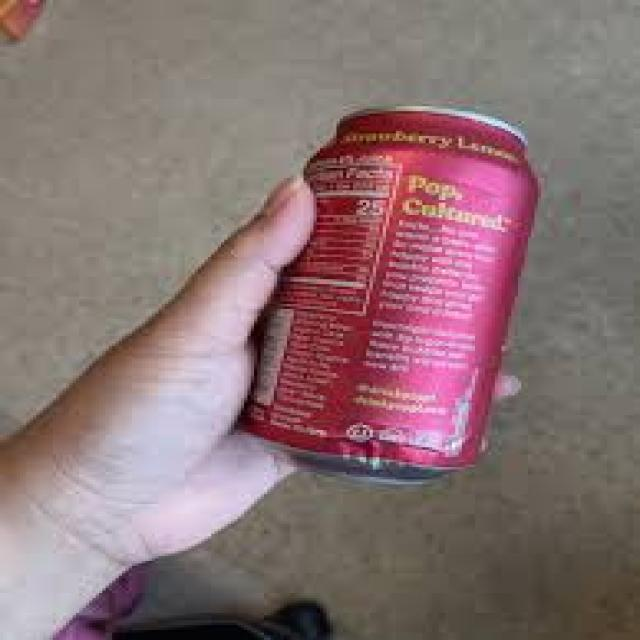Cans: (248, 96, 548, 492)
